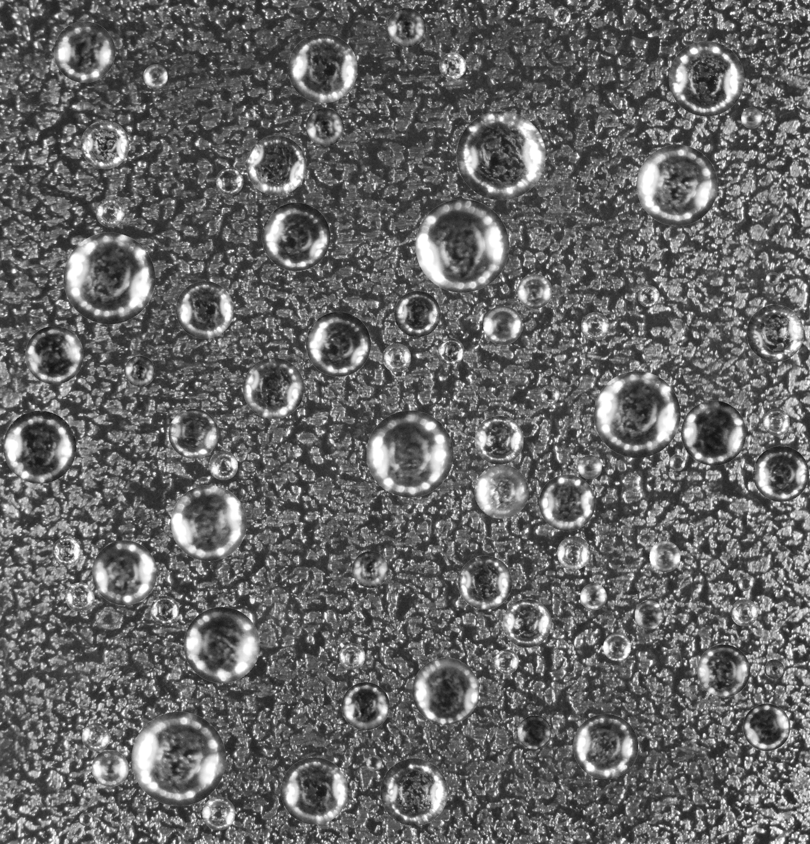Bubble: (131, 711, 225, 806), (415, 199, 509, 292), (63, 232, 155, 324), (456, 111, 545, 200), (366, 410, 453, 497), (594, 371, 680, 457), (636, 144, 717, 225), (170, 485, 246, 561), (183, 607, 259, 683), (669, 41, 744, 116), (3, 410, 76, 483), (288, 33, 357, 102), (262, 202, 330, 270), (280, 757, 347, 824), (380, 758, 447, 825), (412, 658, 479, 724), (681, 400, 746, 465), (573, 714, 638, 779), (306, 311, 370, 376), (92, 540, 156, 605), (53, 21, 115, 82), (243, 357, 304, 418), (246, 135, 306, 195), (25, 326, 83, 384), (175, 281, 233, 338), (746, 304, 803, 361), (539, 474, 595, 531), (753, 446, 809, 501), (458, 555, 512, 609), (474, 464, 528, 518), (697, 644, 750, 697), (168, 408, 218, 458), (474, 415, 523, 464), (502, 599, 551, 647), (80, 120, 129, 168), (341, 682, 389, 730), (743, 703, 790, 751), (394, 290, 440, 337), (483, 305, 522, 344), (386, 8, 425, 47), (305, 108, 343, 146), (91, 750, 128, 786), (352, 551, 388, 587), (517, 274, 552, 308), (517, 715, 551, 749), (557, 536, 590, 569), (202, 797, 235, 830), (649, 541, 680, 572), (124, 355, 155, 386), (95, 198, 124, 227), (634, 600, 663, 629), (65, 582, 94, 611), (208, 451, 237, 480), (81, 723, 110, 751), (581, 312, 609, 340), (603, 633, 631, 661), (52, 537, 80, 565), (382, 343, 410, 371), (150, 596, 178, 624), (763, 408, 790, 435), (216, 167, 243, 194), (731, 599, 758, 626), (439, 52, 466, 79), (437, 338, 464, 364), (580, 583, 606, 610), (339, 643, 365, 669), (494, 649, 518, 673), (578, 455, 602, 479), (143, 64, 167, 88), (638, 285, 659, 307), (741, 107, 762, 128), (764, 659, 784, 678), (540, 385, 559, 403), (552, 6, 571, 24), (668, 454, 685, 471), (366, 755, 382, 771), (737, 576, 752, 591), (78, 812, 92, 826), (766, 272, 780, 286), (245, 108, 256, 119)
